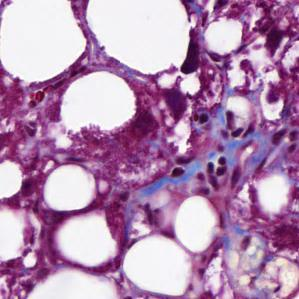inflammation: (148, 81, 202, 126)
